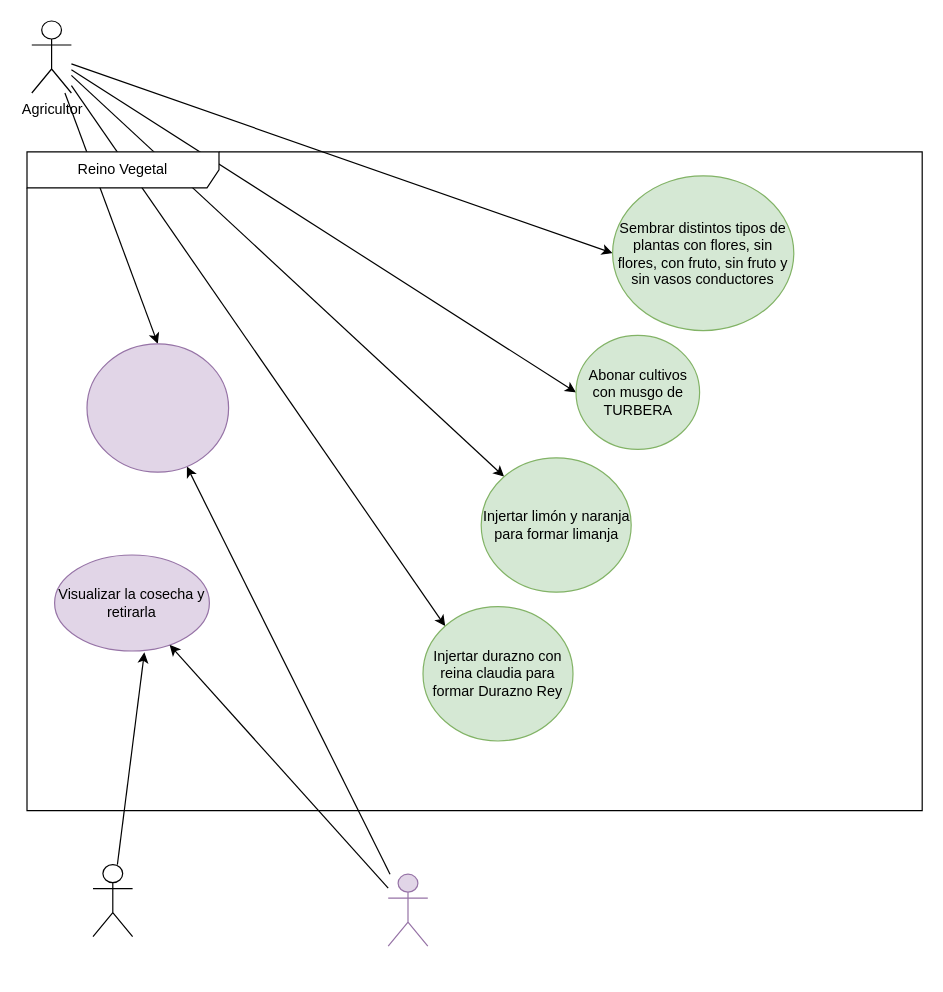
Some shapes in this 943 by 992 pixel diagram are drawn without their labels. The shapes that lost their labels are listed below. From the top down, each one's box as (x1, y1, x2, y2) in pixels, then its label:
(86, 343, 229, 472): Registrar cosecha en el inventario
(92, 863, 133, 937): Cliente
(387, 873, 428, 946): App Inventario
